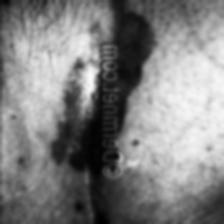Non-Cancerous Skin Condition: (66, 0, 154, 185)
